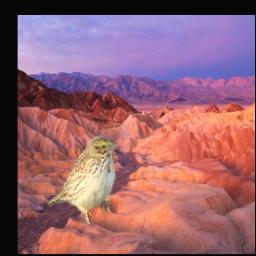Sparrow: (47, 135, 118, 225)
